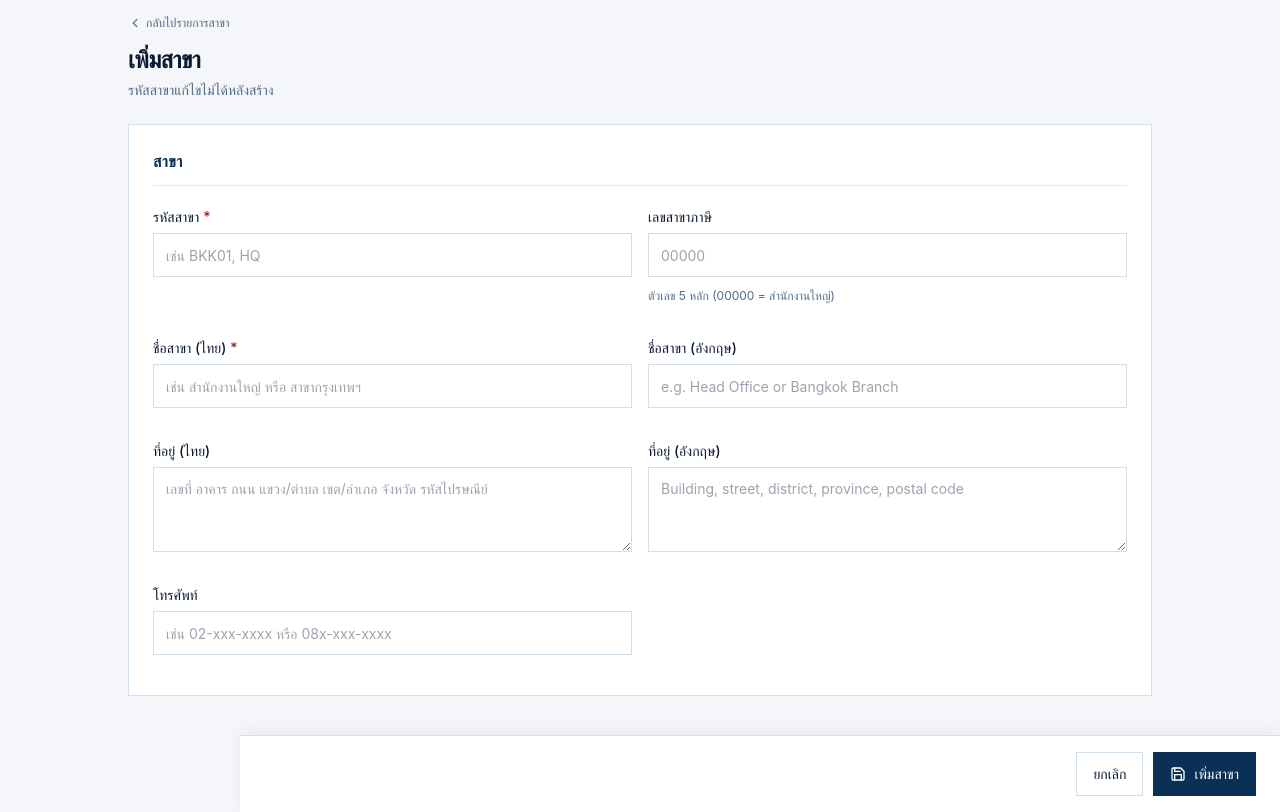
BranchAdminEditor › validates code, name and tax branch code before creating
Type "bad code" into the field labelled "รหัสสาขา *" at (392, 255), box [153,233,632,277]
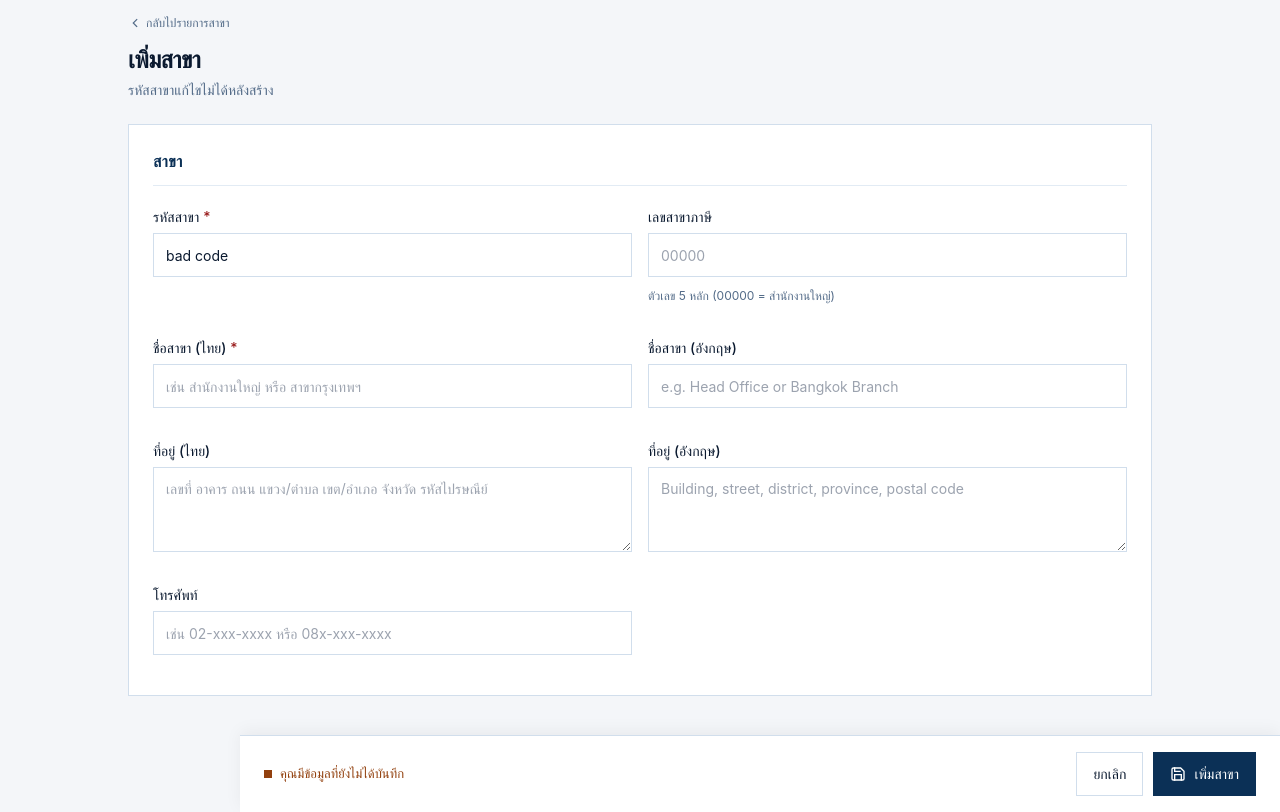
Type "12" into the field labelled "เลขสาขาภาษี" at (888, 255), box [648,233,1127,277]
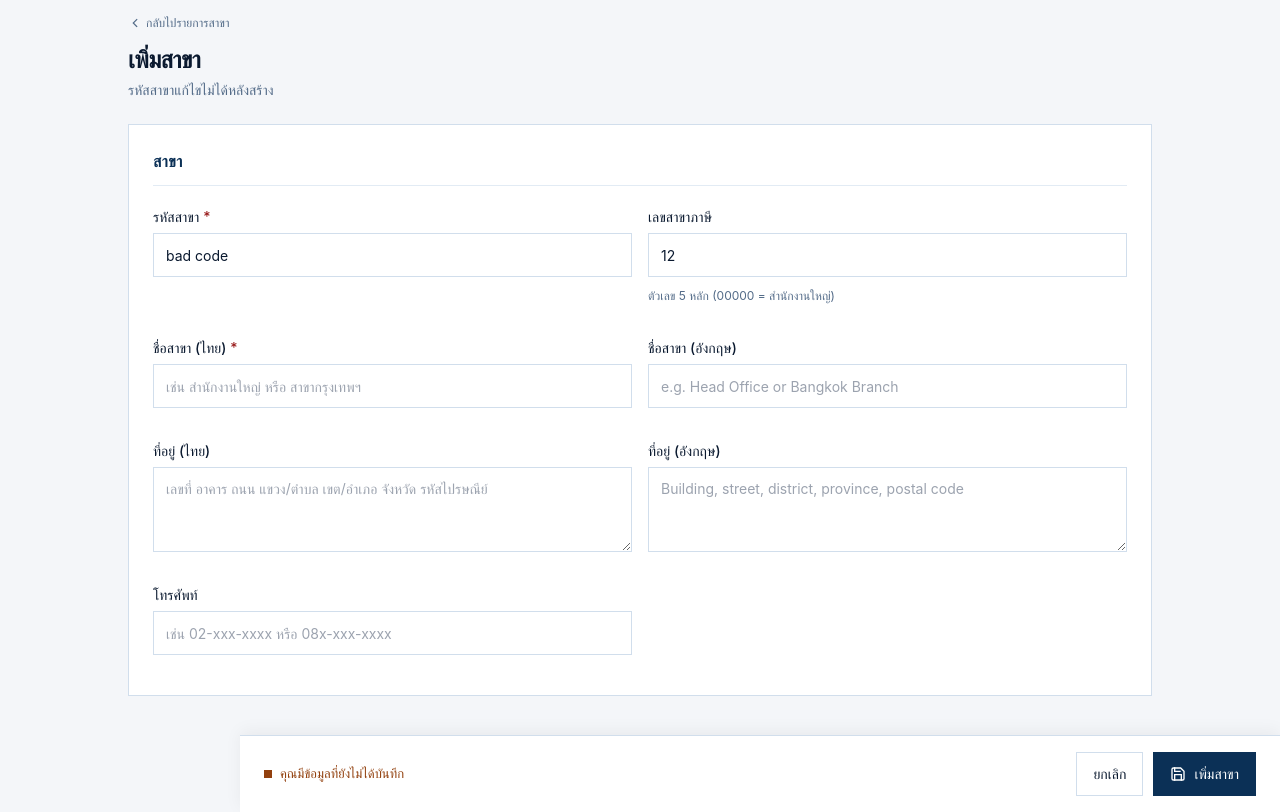
Click the button "เพิ่มสาขา" at (1205, 774), box [1153,752,1256,796]
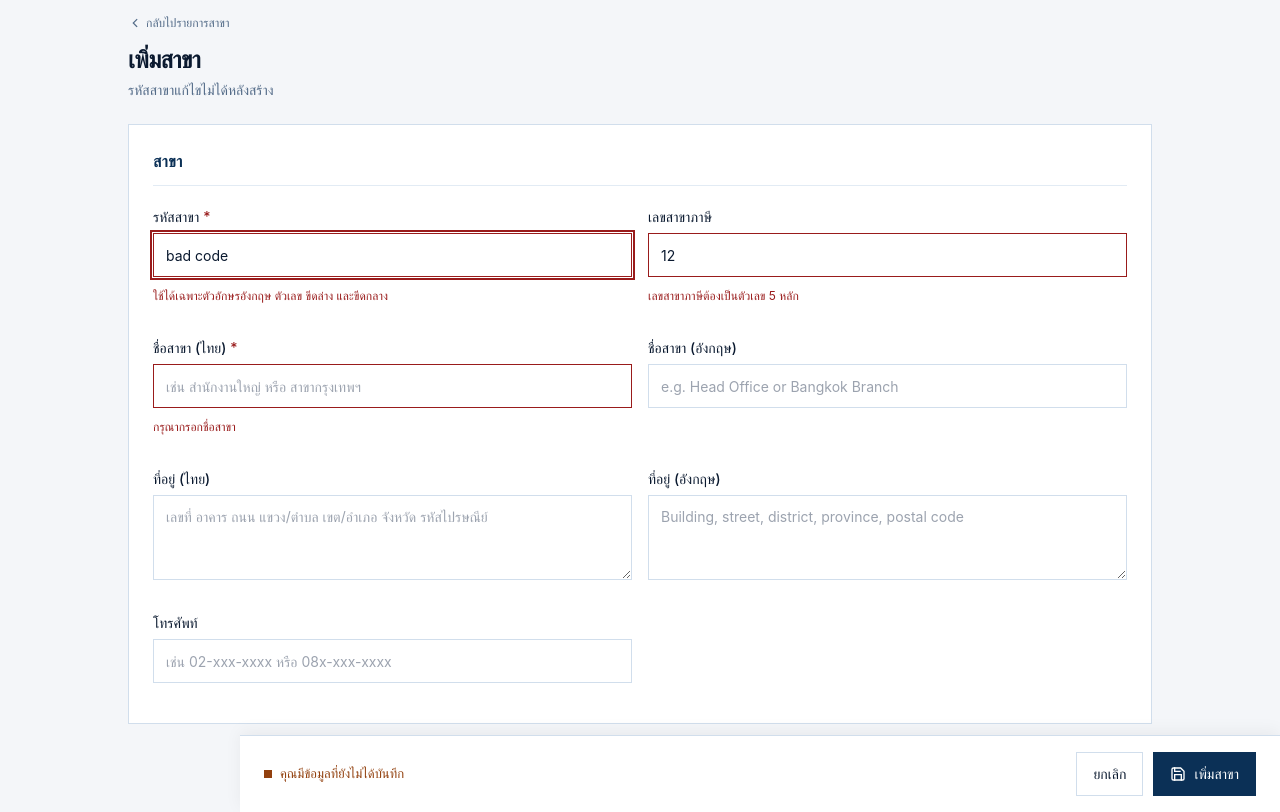
Check: the text "ใช้ได้เฉพาะตัวอักษรอังกฤษ ตัวเลข ขีดล่าง และขีดกลาง" is shown, box [153,288,388,303]
Check: the text "กรุณากรอกชื่อสาขา" is shown, box [153,419,236,434]
Check: the text "เลขสาขาภาษีต้องเป็นตัวเลข 5 หลัก" is shown, box [648,288,799,303]
